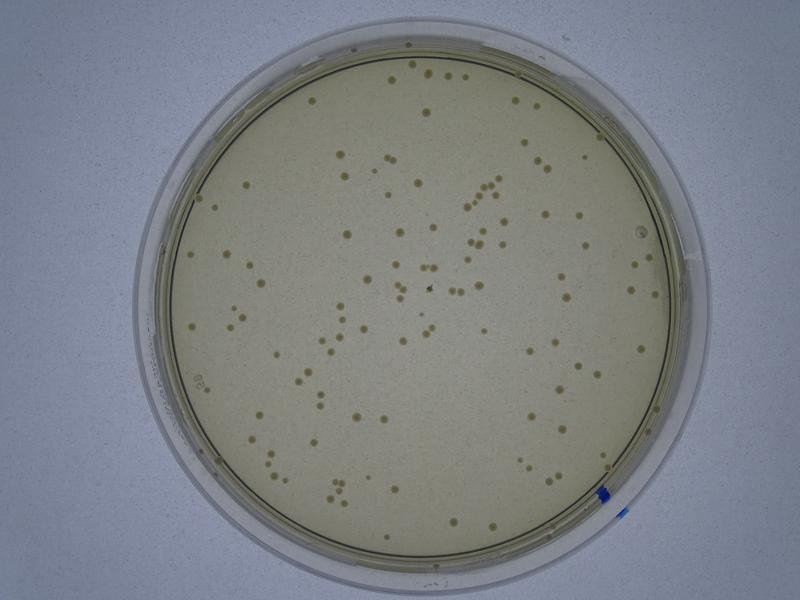colony: (551, 381, 570, 398), (377, 411, 394, 429), (521, 343, 537, 361), (559, 291, 574, 309), (419, 106, 435, 122), (241, 434, 259, 448), (495, 237, 513, 251), (572, 209, 590, 223), (220, 248, 235, 264), (267, 348, 282, 364), (553, 269, 569, 284), (446, 510, 458, 530), (395, 333, 409, 350), (351, 408, 364, 426), (306, 435, 320, 451), (577, 237, 591, 253), (238, 179, 254, 193), (556, 421, 568, 439), (338, 168, 353, 182), (361, 272, 374, 288), (391, 482, 404, 498), (547, 336, 561, 350), (338, 227, 353, 240), (537, 207, 551, 220), (394, 224, 406, 239), (472, 277, 484, 292), (427, 221, 441, 233), (525, 409, 537, 423), (412, 176, 424, 189), (255, 277, 267, 290), (358, 322, 370, 335), (252, 408, 265, 420), (186, 322, 198, 335), (519, 136, 530, 150), (306, 95, 319, 106), (332, 301, 346, 311), (487, 520, 497, 534), (477, 326, 488, 337), (185, 251, 196, 262), (380, 531, 391, 542), (383, 192, 395, 200), (210, 205, 221, 213)
